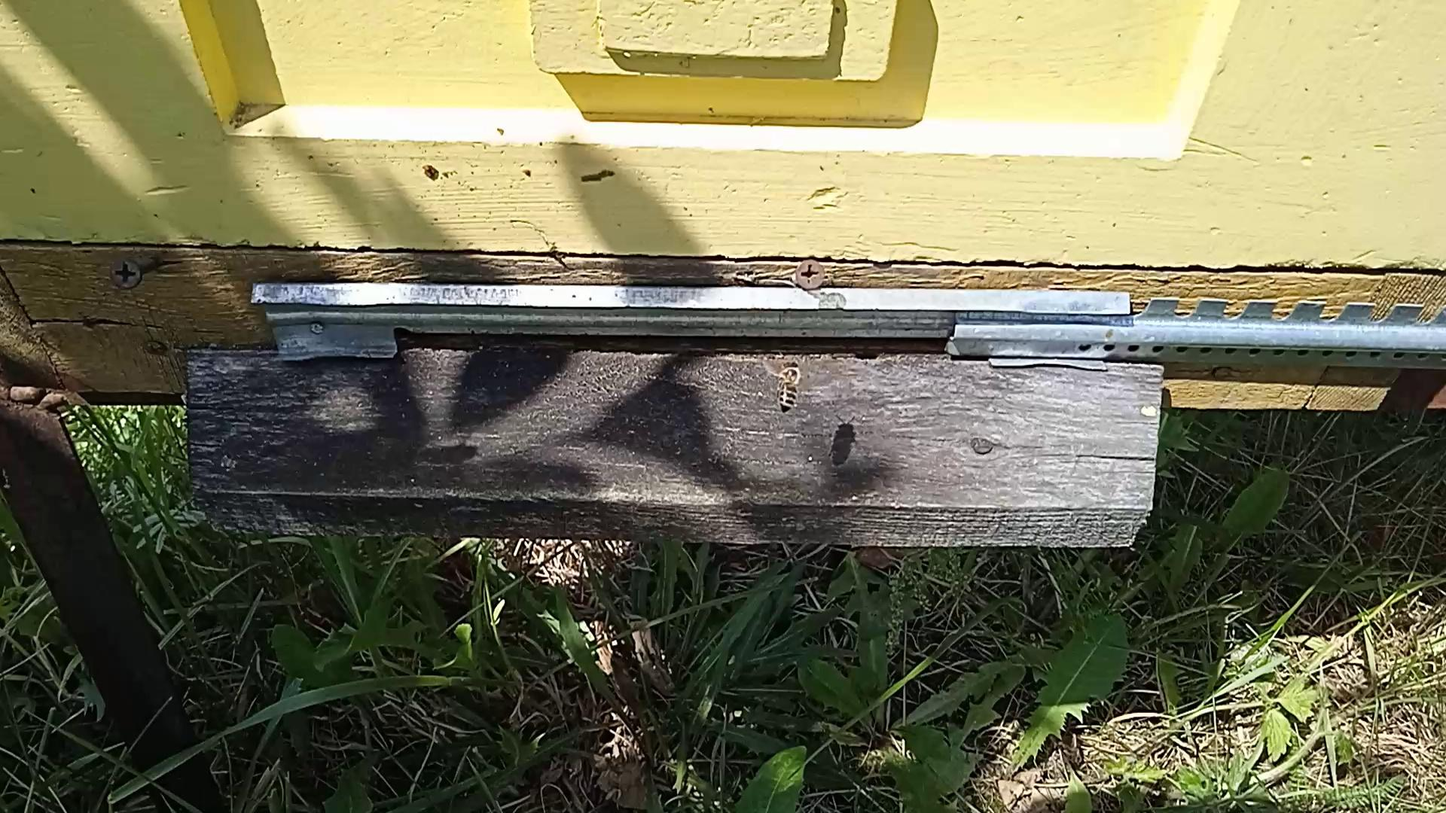worker-bee: (775, 363, 803, 413)
